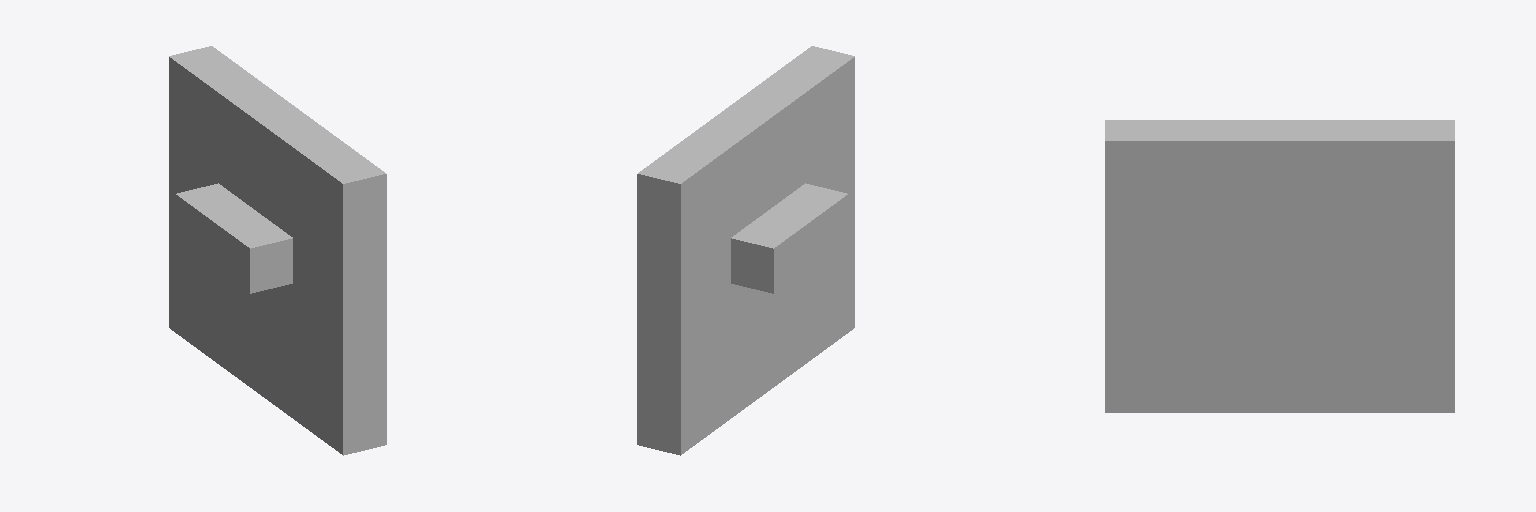
The model's file is kitchen_stand door 2.obj.
3 renders of one model, left to right at view 1: azimuth 30°, elevation 25°; view 2: azimuth 150°, elevation 25°; view 3: azimuth 270°, elevation 25°, orthographic.
Visible parts, largest first — view 1: kitchen_stand door 2; view 2: kitchen_stand door 2; view 3: kitchen_stand door 2.
Boxes of the visible parts, x1=… form: kitchen_stand door 2: x1=169, y1=46, x2=386, y2=455; kitchen_stand door 2: x1=637, y1=46, x2=854, y2=455; kitchen_stand door 2: x1=1105, y1=120, x2=1454, y2=412.
Size of the model in its own units: 2 by 6 by 7.